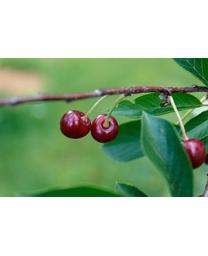cherry: (60, 110, 90, 140), (91, 113, 119, 143), (180, 140, 206, 169)
